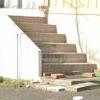stairs: (10, 15, 97, 74)
